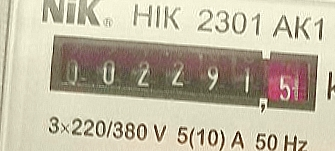0: (60, 53, 80, 83), (98, 55, 116, 85)
1: (237, 61, 253, 96)
2: (133, 57, 151, 87), (168, 57, 184, 87)
5: (275, 70, 292, 101)
9: (202, 61, 220, 91)
screen: (42, 28, 323, 117)
